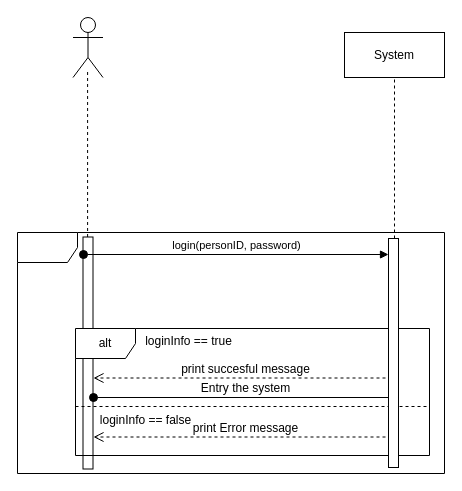
Some shapes in this 462 by 491 pixel diagram are drawn without their labels. Each missing label, with the centre of its shape:
"loop" goes at (x=230, y=353).
"Student" goes at (x=87, y=47).
